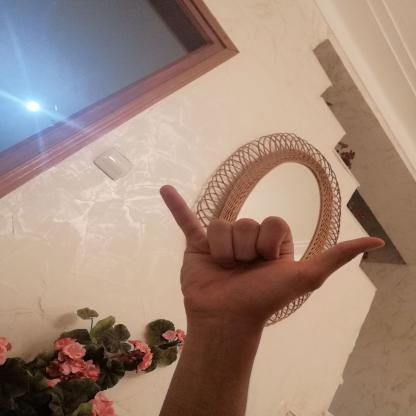YA: (143, 174, 403, 332)
